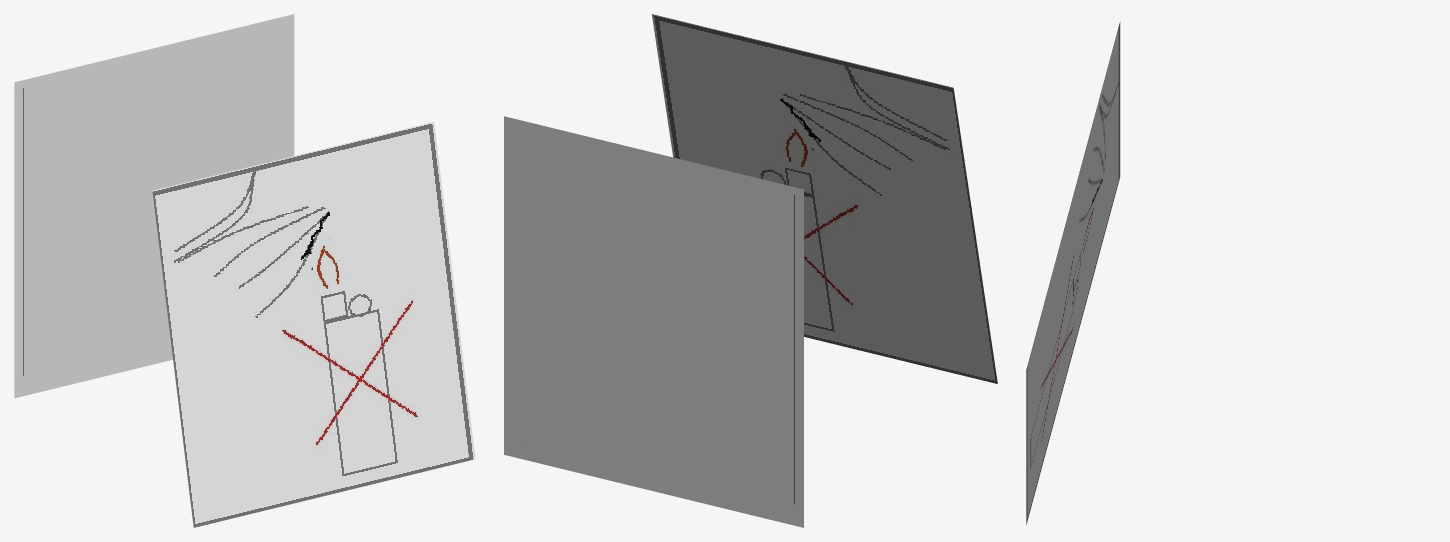
The model's file is Angels freedom.glb.
The picture shows the model from 3 angles, left to right: view 1: azimuth 30°, elevation 25°; view 2: azimuth 150°, elevation 25°; view 3: azimuth 270°, elevation 25°; orthographic projection. The views are drawn at different scales.
Visible parts, largest first — view 1: mesh_id29, mesh_id1; view 2: mesh_id1, mesh_id29; view 3: mesh_id29.
Boxes of the visible parts, x1,y1,x2,y2 form: mesh_id29: (152,122,475,527); mesh_id1: (14,14,294,398); mesh_id1: (504,116,803,527); mesh_id29: (652,14,997,383); mesh_id29: (1026,21,1120,524).
Bounding box in the file's own units: 0.306 × 0.328 × 0.3389.
2 materials, 2 textured.
